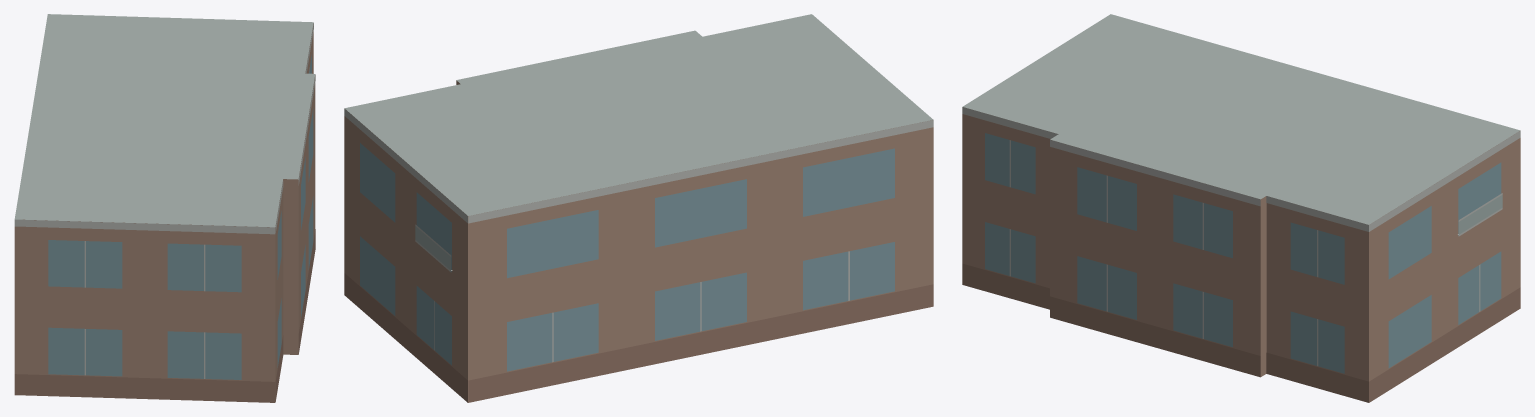
The model's file is survey-upis-32704756.glb.
The picture shows the model from 3 angles, left to right: view 1: azimuth 30°, elevation 25°; view 2: azimuth 150°, elevation 25°; view 3: azimuth 270°, elevation 25°; orthographic projection. The views are drawn at different scales.
Parts seen in each view (by area): view 1: survey-upis-32704756.tmp; view 2: survey-upis-32704756.tmp; view 3: survey-upis-32704756.tmp.
Part boxes in pixels (x1,y1,x2,y2): survey-upis-32704756.tmp: [14, 14, 315, 402]; survey-upis-32704756.tmp: [344, 14, 933, 402]; survey-upis-32704756.tmp: [962, 14, 1520, 402].
Size of the model in its own units: 15.52 by 6.1 by 17.35.
